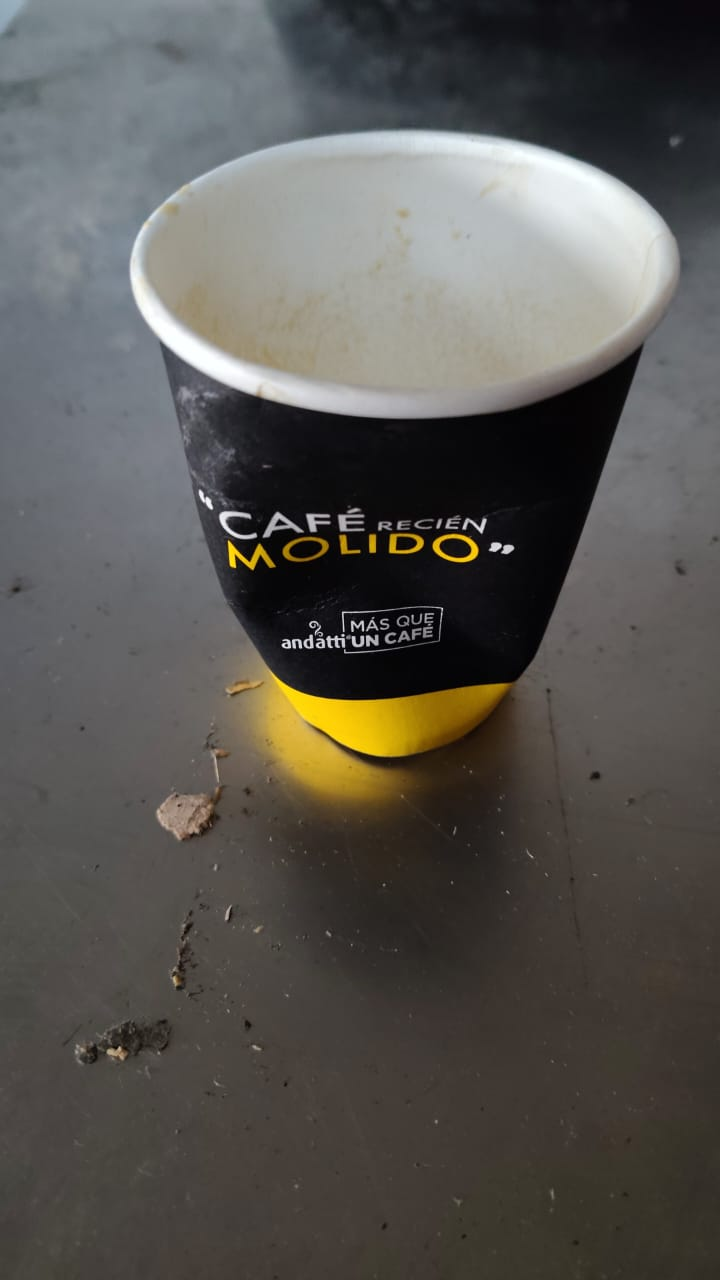Carton: (132, 129, 686, 766)
